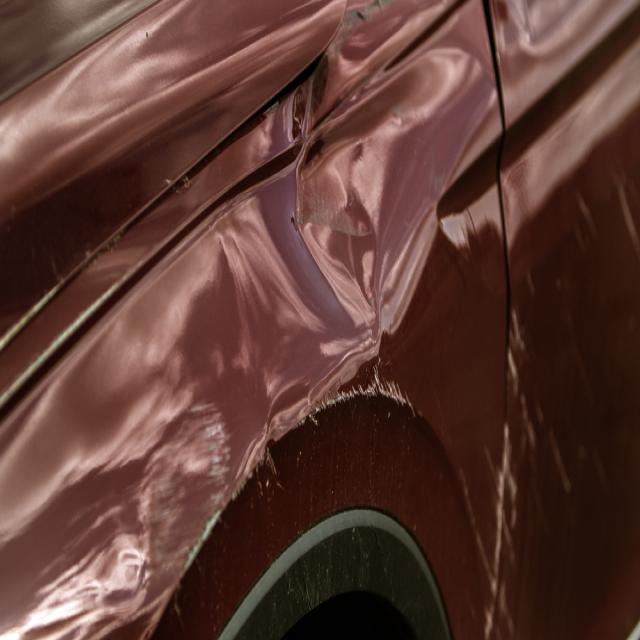dent: (46, 49, 492, 640)
scratch: (315, 364, 419, 422)
